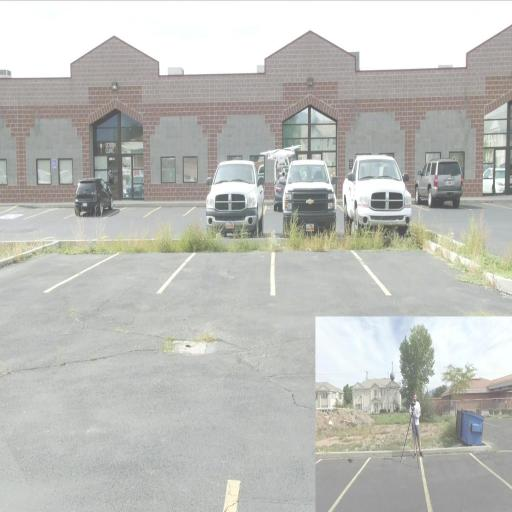drone: (258, 141, 302, 177)
